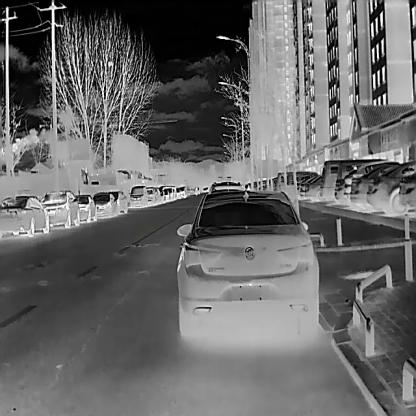car: (176, 191, 318, 350), (319, 158, 389, 204), (349, 161, 408, 210), (366, 159, 415, 212), (0, 193, 49, 237), (41, 190, 80, 228), (398, 171, 416, 213), (74, 193, 96, 222), (92, 192, 116, 218), (106, 189, 127, 213)
truck: (128, 184, 147, 208)
